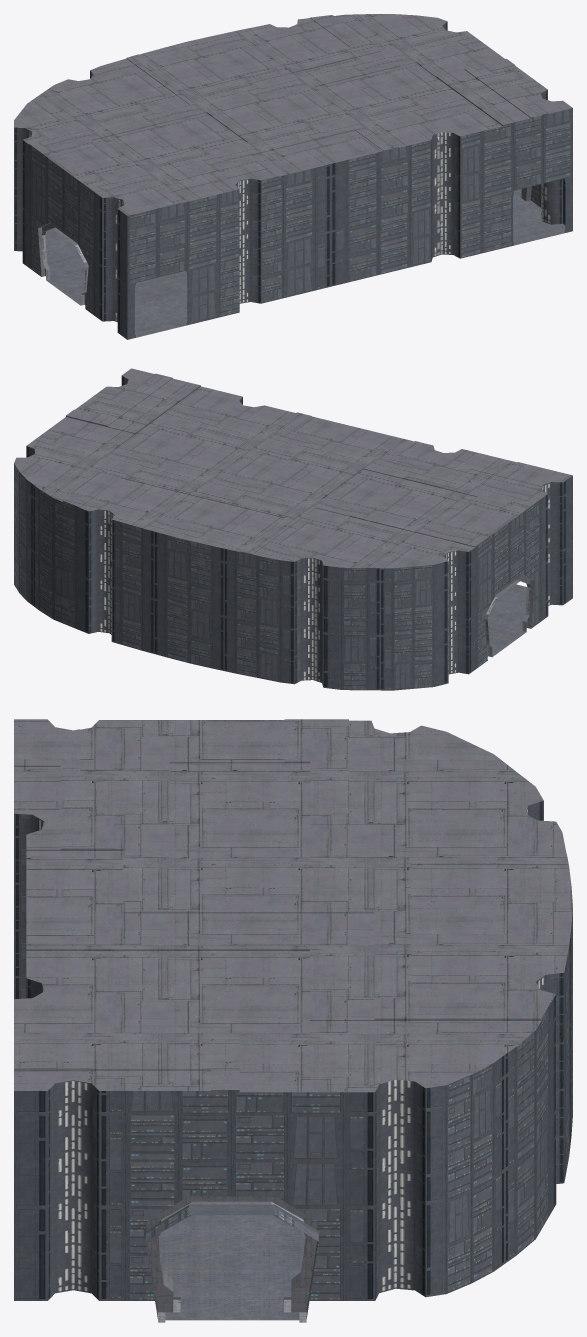
Rendered from mun_tato_starport_s01_u01_r4_foyer4_mesh_r4.fbx.
The picture shows the model from 3 angles, top to bottom: view 1: azimuth 30°, elevation 25°; view 2: azimuth 150°, elevation 25°; view 3: azimuth 270°, elevation 25°; orthographic projection. The views are drawn at different scales.
Parts seen in each view (by area): view 1: mesh_node; view 2: mesh_node; view 3: mesh_node.
Boxes of the visible parts, x1=… form: mesh_node: x1=14, y1=14, x2=572, y2=339; mesh_node: x1=14, y1=368, x2=572, y2=690; mesh_node: x1=14, y1=719, x2=572, y2=1322.
Size of the model in its own units: 35.76 by 9.14 by 21.68.
